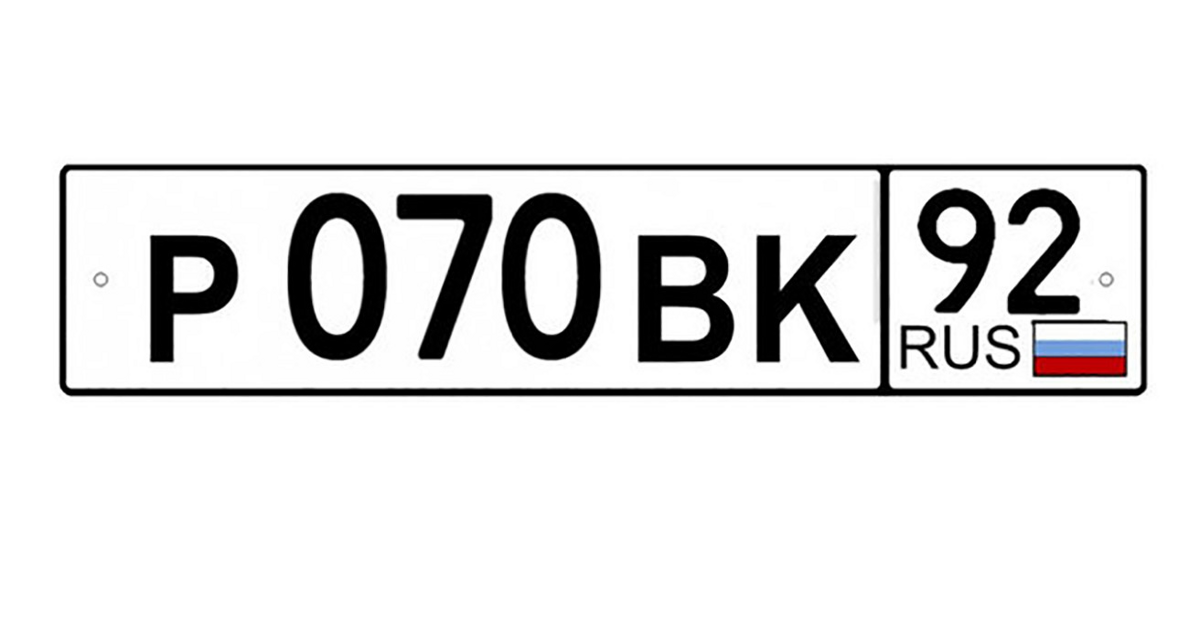number_plate: (55, 170, 1146, 386)
